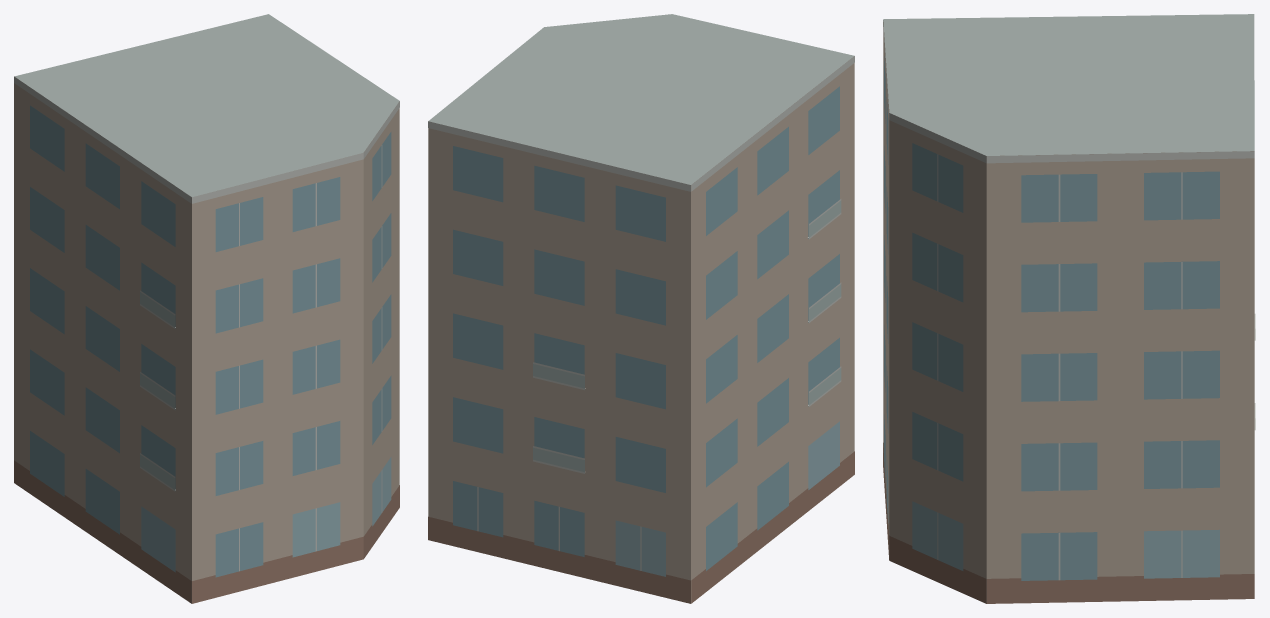
Rendered from survey-upis-32914289.glb.
The picture shows the model from 3 angles, left to right: view 1: azimuth 30°, elevation 25°; view 2: azimuth 150°, elevation 25°; view 3: azimuth 270°, elevation 25°; orthographic projection. The views are drawn at different scales.
Parts seen in each view (by area): view 1: survey-upis-32914289.tmp; view 2: survey-upis-32914289.tmp; view 3: survey-upis-32914289.tmp.
Part boxes in pixels (x1,y1,x2,y2): survey-upis-32914289.tmp: [14, 14, 399, 603]; survey-upis-32914289.tmp: [428, 14, 854, 603]; survey-upis-32914289.tmp: [883, 14, 1255, 603].
Size of the model in its own units: 10.21 by 15 by 11.32.
